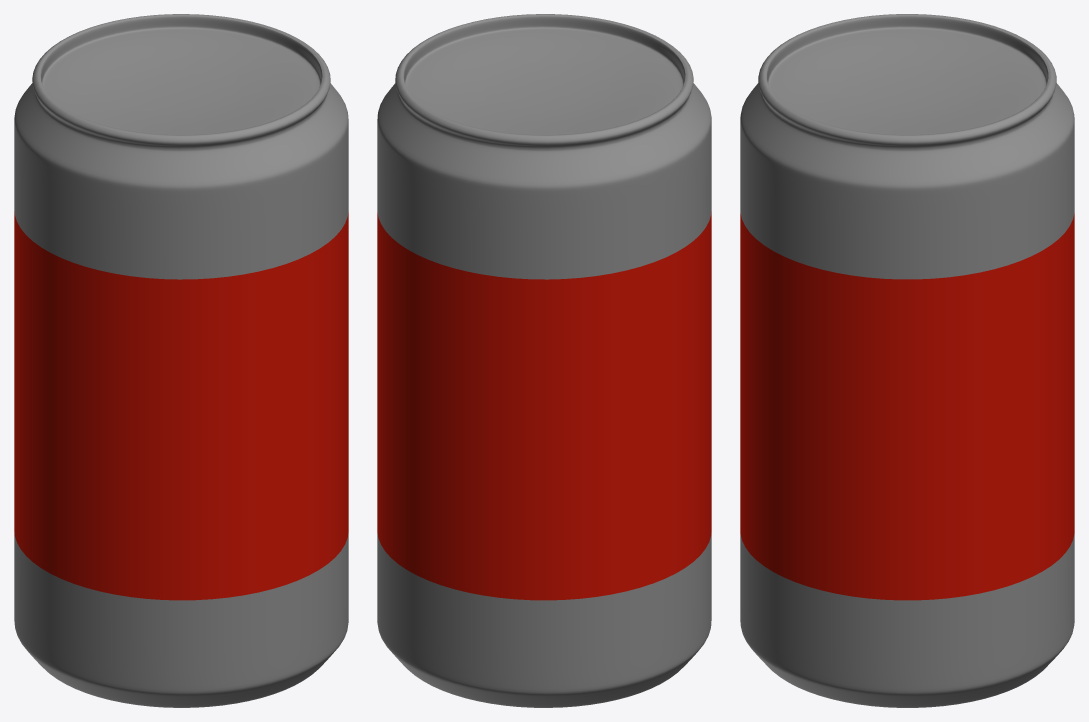
File: can.fbx
3 renders of one model, left to right at view 1: azimuth 30°, elevation 25°; view 2: azimuth 150°, elevation 25°; view 3: azimuth 270°, elevation 25°, orthographic.
Parts seen in each view (by area): view 1: Cylinder; view 2: Cylinder; view 3: Cylinder.
Boxes of the visible parts, x1=… form: Cylinder: x1=14, y1=14, x2=348, y2=707; Cylinder: x1=377, y1=14, x2=711, y2=707; Cylinder: x1=740, y1=14, x2=1074, y2=707.
Bounding box in the file's own units: 195 × 368 × 195.
